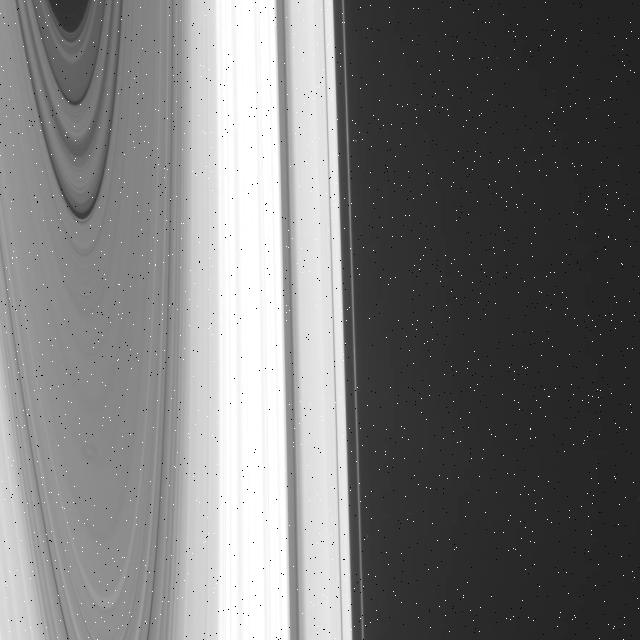Saturn: (0, 0, 369, 640)
